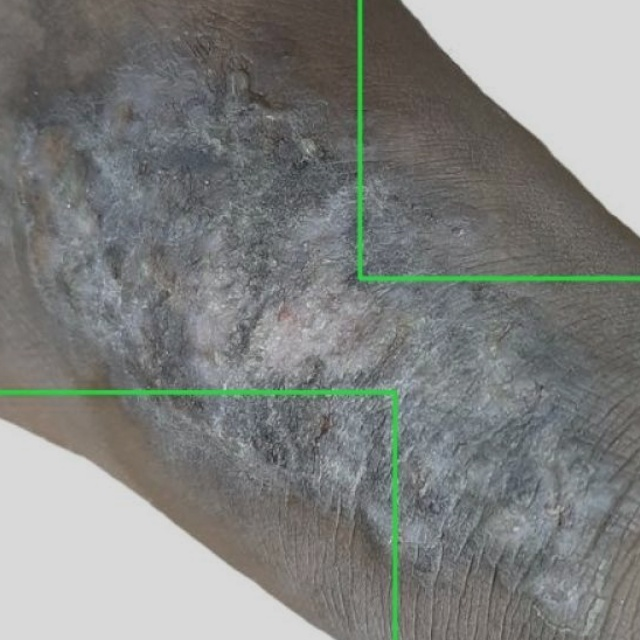Contact Dermatitis: (0, 392, 394, 639), (361, 0, 639, 277)
